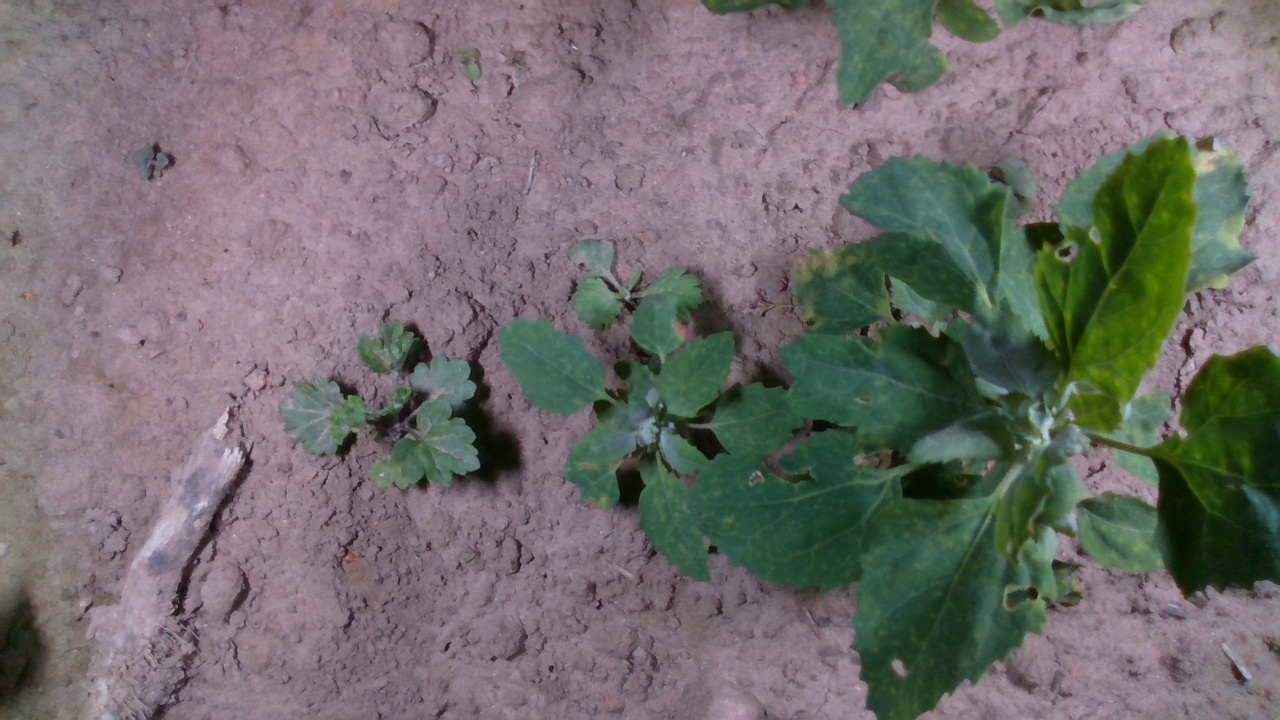weed: (128, 139, 174, 188), (456, 38, 484, 85)
